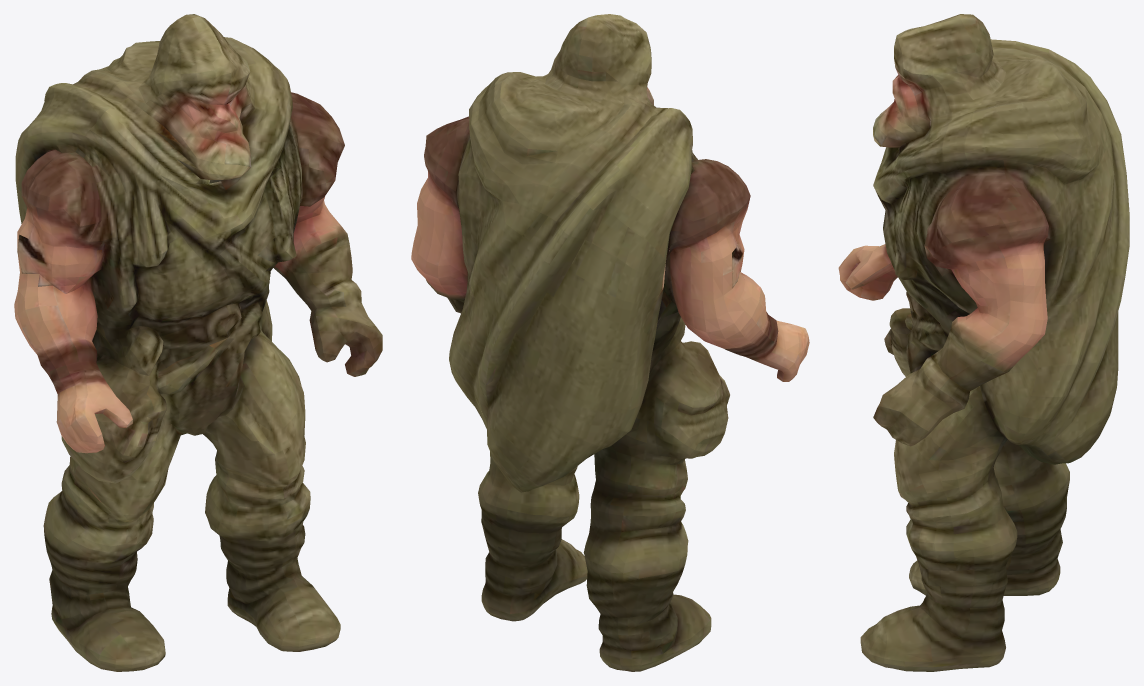
File: villager_wasteland.glb
3 views of the same model, side by side, from view 1: azimuth 30°, elevation 25°; view 2: azimuth 150°, elevation 25°; view 3: azimuth 270°, elevation 25° (orthographic). The views are drawn at different scales.
Size of the model in its own units: 1.06 by 1.91 by 0.8219.
1 material, 1 textured.
